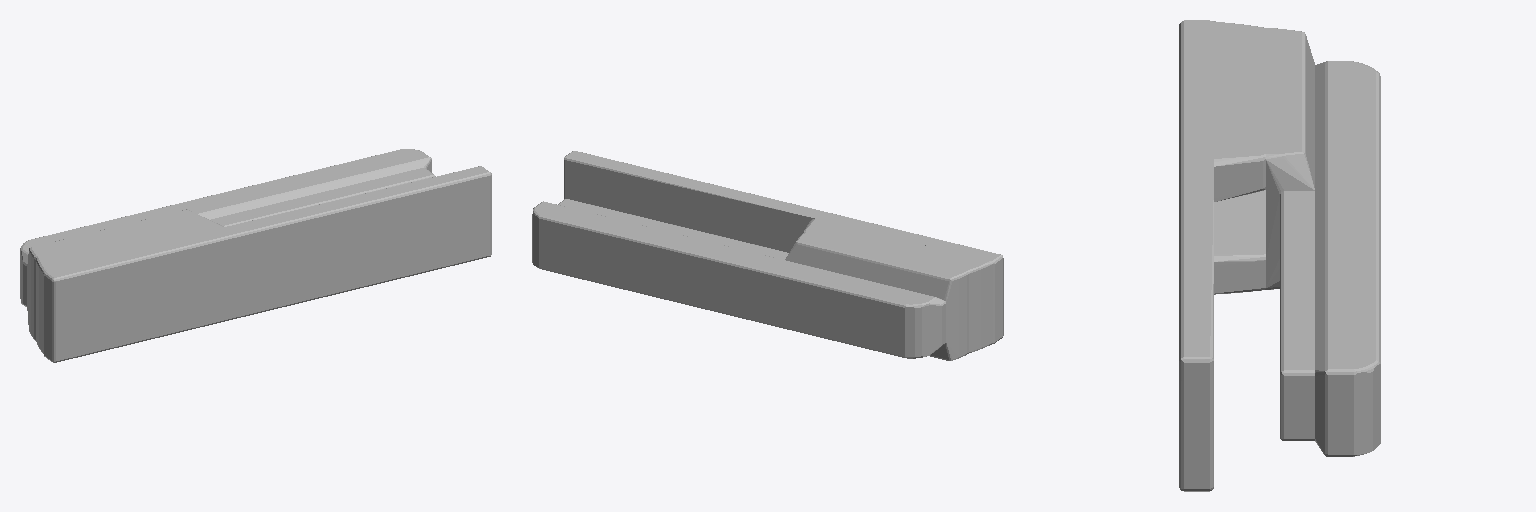
The robot description file, URDF, robot "root":
<robot name="root">
  <link name="link_coacd_convex_piece_0">
    <inertial>
      <origin xyz="0 0 0" rpy="0 0 0"/>
      <inertia ixx="1.49E-03" ixy="6.22E-06" ixz="-9.23E-05" iyy="1.25E-02" iyz="2.38E-07" izz="1.14E-02"/>
    </inertial>
    <visual>
      <origin xyz="0 0 0" rpy="0 0 0"/>
      <geometry>
        <mesh filename="coacd_convex_piece_0.obj" scale="1.0000E+00 1.0000E+00 1.0000E+00"/>
      </geometry>
      <material name="">
        <color rgba="7.50E-01 7.50E-01 7.50E-01 1"/>
      </material>
    </visual>
    <collision>
      <origin xyz="0 0 0" rpy="0 0 0"/>
      <geometry>
        <mesh filename="coacd_convex_piece_0.obj" scale="1.0000E+00 1.0000E+00 1.0000E+00"/>
      </geometry>
    </collision>
  </link>
  <link name="link_coacd_convex_piece_1">
    <inertial>
      <origin xyz="0 0 0" rpy="0 0 0"/>
      <inertia ixx="2.13E-03" ixy="5.75E-06" ixz="1.13E-05" iyy="1.43E-02" iyz="2.16E-07" izz="1.30E-02"/>
    </inertial>
    <visual>
      <origin xyz="0 0 0" rpy="0 0 0"/>
      <geometry>
        <mesh filename="coacd_convex_piece_1.obj" scale="1.0000E+00 1.0000E+00 1.0000E+00"/>
      </geometry>
      <material name="">
        <color rgba="7.50E-01 7.50E-01 7.50E-01 1"/>
      </material>
    </visual>
    <collision>
      <origin xyz="0 0 0" rpy="0 0 0"/>
      <geometry>
        <mesh filename="coacd_convex_piece_1.obj" scale="1.0000E+00 1.0000E+00 1.0000E+00"/>
      </geometry>
    </collision>
  </link>
  <joint name="link_coacd_convex_piece_1_joint" type="fixed">
    <origin xyz="0 0 0" rpy="0 0 0"/>
    <parent link="link_coacd_convex_piece_0"/>
    <child link="link_coacd_convex_piece_1"/>
  </joint>
  <link name="link_coacd_convex_piece_2">
    <inertial>
      <origin xyz="0 0 0" rpy="0 0 0"/>
      <inertia ixx="6.35E-05" ixy="1.62E-06" ixz="-1.72E-04" iyy="2.39E-03" iyz="6.10E-08" izz="2.40E-03"/>
    </inertial>
    <visual>
      <origin xyz="0 0 0" rpy="0 0 0"/>
      <geometry>
        <mesh filename="coacd_convex_piece_2.obj" scale="1.0000E+00 1.0000E+00 1.0000E+00"/>
      </geometry>
      <material name="">
        <color rgba="7.50E-01 7.50E-01 7.50E-01 1"/>
      </material>
    </visual>
    <collision>
      <origin xyz="0 0 0" rpy="0 0 0"/>
      <geometry>
        <mesh filename="coacd_convex_piece_2.obj" scale="1.0000E+00 1.0000E+00 1.0000E+00"/>
      </geometry>
    </collision>
  </link>
  <joint name="link_coacd_convex_piece_2_joint" type="fixed">
    <origin xyz="0 0 0" rpy="0 0 0"/>
    <parent link="link_coacd_convex_piece_1"/>
    <child link="link_coacd_convex_piece_2"/>
  </joint>
  <link name="link_coacd_convex_piece_3">
    <inertial>
      <origin xyz="0 0 0" rpy="0 0 0"/>
      <inertia ixx="2.47E-04" ixy="3.17E-06" ixz="2.65E-04" iyy="7.15E-03" iyz="1.17E-07" izz="7.33E-03"/>
    </inertial>
    <visual>
      <origin xyz="0 0 0" rpy="0 0 0"/>
      <geometry>
        <mesh filename="coacd_convex_piece_3.obj" scale="1.0000E+00 1.0000E+00 1.0000E+00"/>
      </geometry>
      <material name="">
        <color rgba="7.50E-01 7.50E-01 7.50E-01 1"/>
      </material>
    </visual>
    <collision>
      <origin xyz="0 0 0" rpy="0 0 0"/>
      <geometry>
        <mesh filename="coacd_convex_piece_3.obj" scale="1.0000E+00 1.0000E+00 1.0000E+00"/>
      </geometry>
    </collision>
  </link>
  <joint name="link_coacd_convex_piece_3_joint" type="fixed">
    <origin xyz="0 0 0" rpy="0 0 0"/>
    <parent link="link_coacd_convex_piece_2"/>
    <child link="link_coacd_convex_piece_3"/>
  </joint>
  <link name="link_coacd_convex_piece_4">
    <inertial>
      <origin xyz="0 0 0" rpy="0 0 0"/>
      <inertia ixx="2.06E-04" ixy="-5.29E-04" ixz="-4.20E-04" iyy="2.86E-03" iyz="-9.17E-05" izz="2.90E-03"/>
    </inertial>
    <visual>
      <origin xyz="0 0 0" rpy="0 0 0"/>
      <geometry>
        <mesh filename="coacd_convex_piece_4.obj" scale="1.0000E+00 1.0000E+00 1.0000E+00"/>
      </geometry>
      <material name="">
        <color rgba="7.50E-01 7.50E-01 7.50E-01 1"/>
      </material>
    </visual>
    <collision>
      <origin xyz="0 0 0" rpy="0 0 0"/>
      <geometry>
        <mesh filename="coacd_convex_piece_4.obj" scale="1.0000E+00 1.0000E+00 1.0000E+00"/>
      </geometry>
    </collision>
  </link>
  <joint name="link_coacd_convex_piece_4_joint" type="fixed">
    <origin xyz="0 0 0" rpy="0 0 0"/>
    <parent link="link_coacd_convex_piece_3"/>
    <child link="link_coacd_convex_piece_4"/>
  </joint>
  <link name="link_coacd_convex_piece_5">
    <inertial>
      <origin xyz="0 0 0" rpy="0 0 0"/>
      <inertia ixx="1.81E-04" ixy="4.37E-04" ixz="-3.27E-04" iyy="2.08E-03" iyz="8.04E-05" izz="2.12E-03"/>
    </inertial>
    <visual>
      <origin xyz="0 0 0" rpy="0 0 0"/>
      <geometry>
        <mesh filename="coacd_convex_piece_5.obj" scale="1.0000E+00 1.0000E+00 1.0000E+00"/>
      </geometry>
      <material name="">
        <color rgba="7.50E-01 7.50E-01 7.50E-01 1"/>
      </material>
    </visual>
    <collision>
      <origin xyz="0 0 0" rpy="0 0 0"/>
      <geometry>
        <mesh filename="coacd_convex_piece_5.obj" scale="1.0000E+00 1.0000E+00 1.0000E+00"/>
      </geometry>
    </collision>
  </link>
  <joint name="link_coacd_convex_piece_5_joint" type="fixed">
    <origin xyz="0 0 0" rpy="0 0 0"/>
    <parent link="link_coacd_convex_piece_4"/>
    <child link="link_coacd_convex_piece_5"/>
  </joint>
  <link name="link_coacd_convex_piece_6">
    <inertial>
      <origin xyz="0 0 0" rpy="0 0 0"/>
      <inertia ixx="2.08E-05" ixy="6.63E-05" ixz="-9.26E-05" iyy="8.34E-04" iyz="7.42E-06" izz="8.32E-04"/>
    </inertial>
    <visual>
      <origin xyz="0 0 0" rpy="0 0 0"/>
      <geometry>
        <mesh filename="coacd_convex_piece_6.obj" scale="1.0000E+00 1.0000E+00 1.0000E+00"/>
      </geometry>
      <material name="">
        <color rgba="7.50E-01 7.50E-01 7.50E-01 1"/>
      </material>
    </visual>
    <collision>
      <origin xyz="0 0 0" rpy="0 0 0"/>
      <geometry>
        <mesh filename="coacd_convex_piece_6.obj" scale="1.0000E+00 1.0000E+00 1.0000E+00"/>
      </geometry>
    </collision>
  </link>
  <joint name="link_coacd_convex_piece_6_joint" type="fixed">
    <origin xyz="0 0 0" rpy="0 0 0"/>
    <parent link="link_coacd_convex_piece_5"/>
    <child link="link_coacd_convex_piece_6"/>
  </joint>
</robot>

--- Facts derived from the render (not from the file) ---
3 views of the same robot in one strip: view 1: azimuth 30°, elevation 25°; view 2: azimuth 150°, elevation 25°; view 3: azimuth 270°, elevation 25° (orthographic).
Robot: root — 7 links, 6 joints (6 fixed); root link link_coacd_convex_piece_0; default pose: every joint at zero.
Links seen in each view (by area): view 1: link_coacd_convex_piece_1, link_coacd_convex_piece_0, link_coacd_convex_piece_4, link_coacd_convex_piece_3, link_coacd_convex_piece_2; view 2: link_coacd_convex_piece_0, link_coacd_convex_piece_1, link_coacd_convex_piece_3, link_coacd_convex_piece_4, link_coacd_convex_piece_2, link_coacd_convex_piece_6; view 3: link_coacd_convex_piece_0, link_coacd_convex_piece_1, link_coacd_convex_piece_3, link_coacd_convex_piece_4, link_coacd_convex_piece_2, link_coacd_convex_piece_5.
Boxes of the visible links, bbox=[...] form: link_coacd_convex_piece_1: bbox=[44, 166, 491, 362]; link_coacd_convex_piece_0: bbox=[20, 149, 431, 306]; link_coacd_convex_piece_4: bbox=[36, 217, 223, 299]; link_coacd_convex_piece_3: bbox=[27, 209, 201, 340]; link_coacd_convex_piece_2: bbox=[211, 168, 435, 226]; link_coacd_convex_piece_0: bbox=[532, 201, 945, 358]; link_coacd_convex_piece_1: bbox=[564, 151, 1003, 343]; link_coacd_convex_piece_3: bbox=[785, 232, 968, 360]; link_coacd_convex_piece_4: bbox=[804, 219, 992, 298]; link_coacd_convex_piece_2: bbox=[558, 199, 788, 259]; link_coacd_convex_piece_6: bbox=[968, 290, 992, 353]; link_coacd_convex_piece_0: bbox=[1315, 61, 1380, 456]; link_coacd_convex_piece_1: bbox=[1179, 20, 1213, 491]; link_coacd_convex_piece_3: bbox=[1266, 28, 1314, 289]; link_coacd_convex_piece_4: bbox=[1214, 21, 1265, 201]; link_coacd_convex_piece_2: bbox=[1280, 191, 1314, 440]; link_coacd_convex_piece_5: bbox=[1214, 190, 1265, 294].
Size in the robot's own frame: 1.87 by 0.4687 by 0.3464 metres.
Meshes: 7 distinct files referenced, 7 mesh visuals loaded (7 OBJ).
